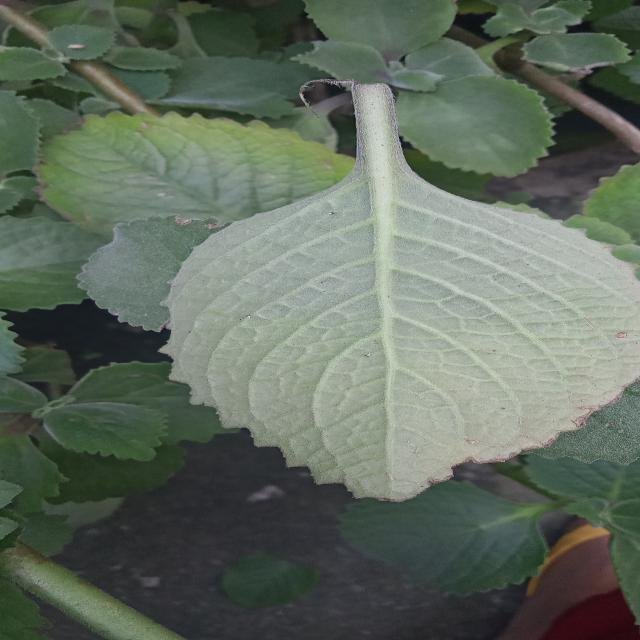Oregano: (120, 144, 640, 524)
